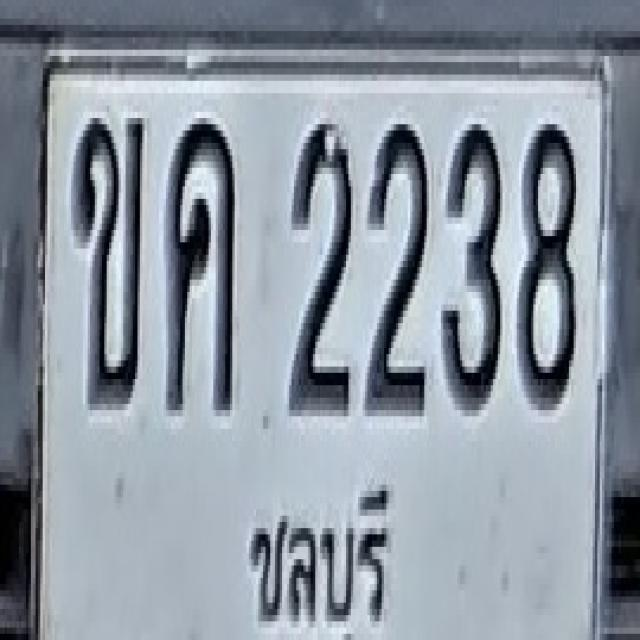-: (165, 118, 236, 410), (74, 112, 144, 404)
2: (364, 118, 428, 416), (289, 121, 351, 413)
3: (442, 118, 501, 410)
8: (518, 115, 575, 407)
CBI: (235, 467, 399, 640)
